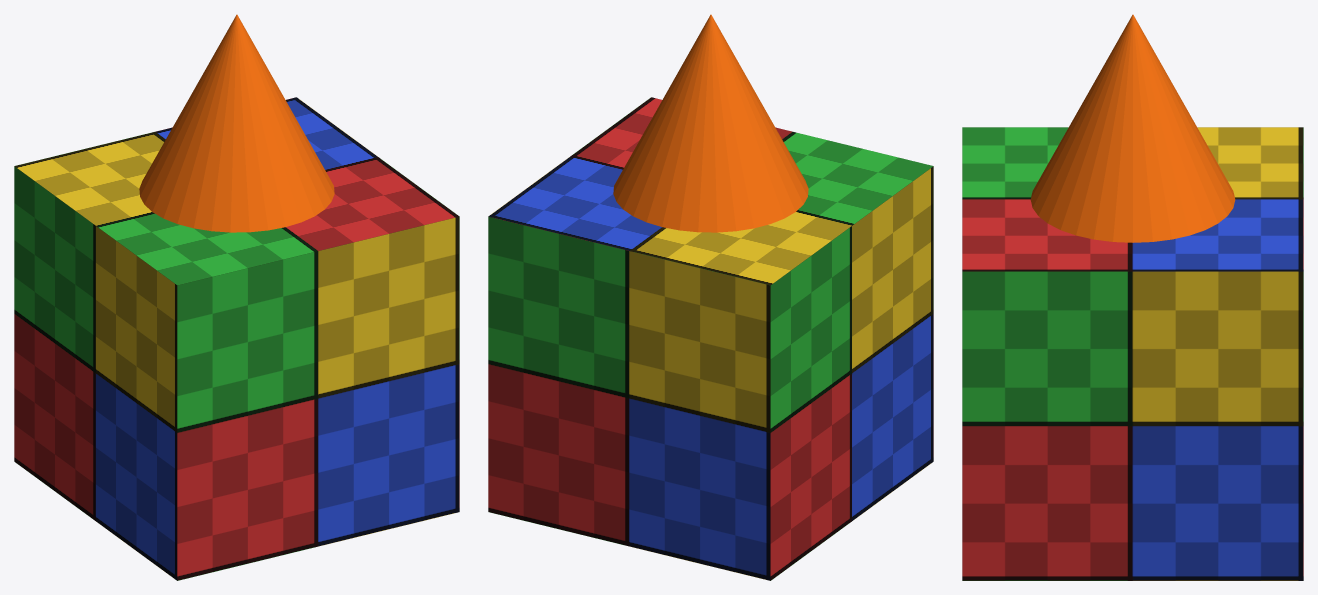
The model's file is crate.obj.
3 views of the same model, side by side, from view 1: azimuth 30°, elevation 25°; view 2: azimuth 150°, elevation 25°; view 3: azimuth 270°, elevation 25° (orthographic). The views are drawn at different scales.
Visible parts, largest first — view 1: crate, marker; view 2: crate, marker; view 3: crate, marker.
Part boxes in pixels (bbox=[...]): crate: bbox=[14, 97, 459, 580]; marker: bbox=[139, 14, 334, 232]; crate: bbox=[488, 97, 933, 580]; marker: bbox=[613, 14, 808, 232]; crate: bbox=[962, 127, 1303, 580]; marker: bbox=[1030, 14, 1235, 242].
Bounding box in the file's own units: 2 × 3.2 × 2.
Materials: 2 (1 with a texture image).
